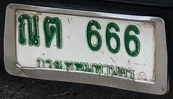txt14: (16, 13, 41, 48)
txt16: (41, 15, 64, 51)
